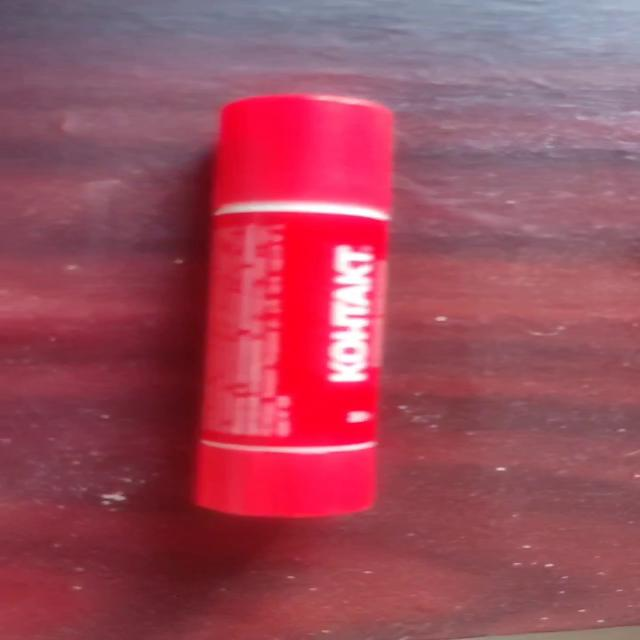glue: (191, 92, 395, 518)
